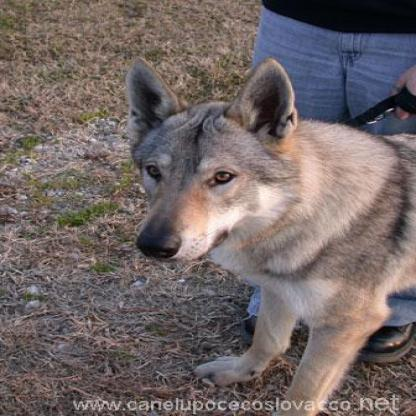german shepherd: (117, 51, 416, 415)
